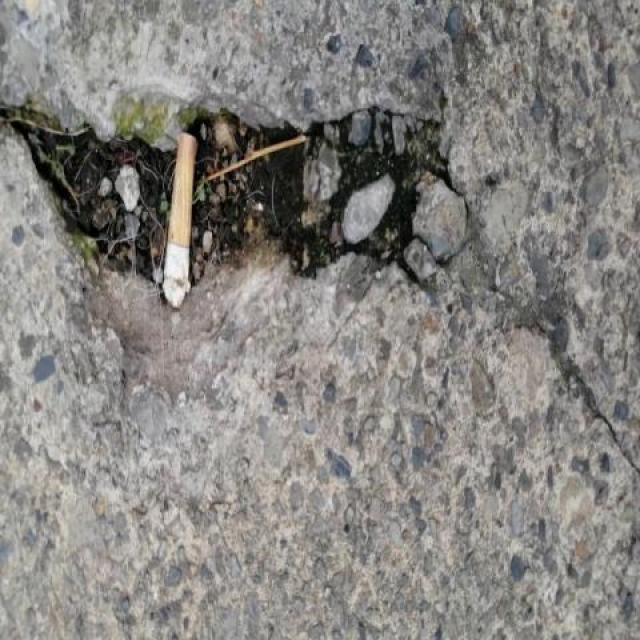non-organic waste: (159, 126, 202, 286)
